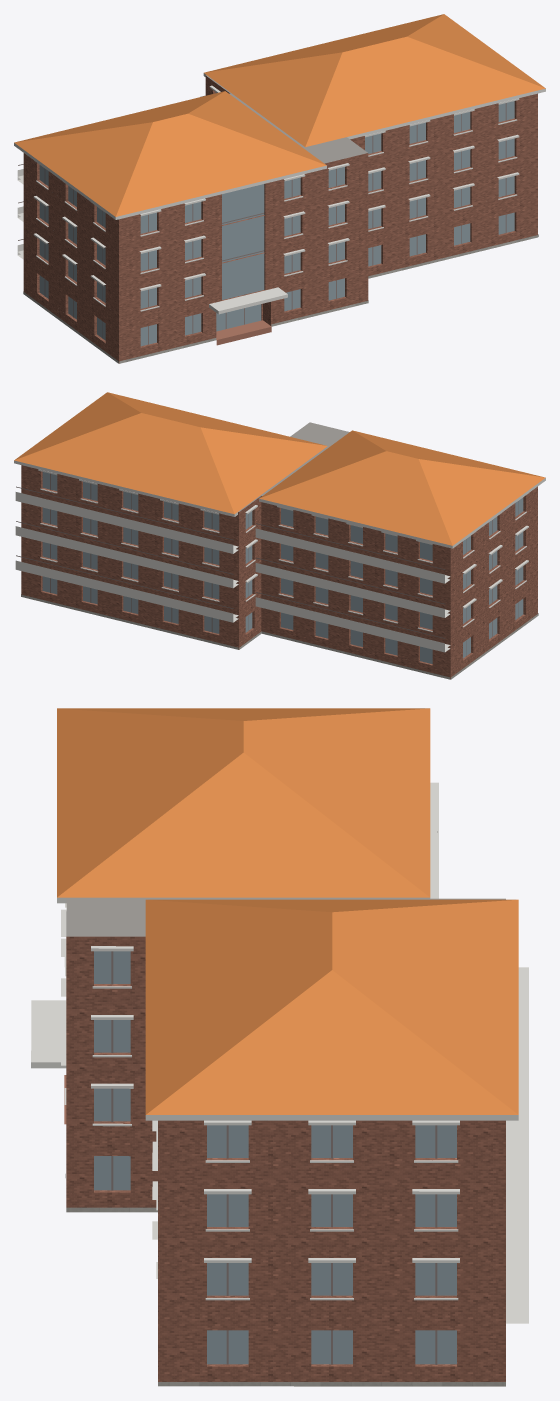
3 views of the same model, one above another, from view 1: azimuth 30°, elevation 25°; view 2: azimuth 150°, elevation 25°; view 3: azimuth 270°, elevation 25° (orthographic). The views are drawn at different scales.
Visible parts, largest first — view 1: osm136188129__wall, osm136188129__roofAccent, osm136188129__glass, osm136188129__trim, osm136188129__base, osm136188129__frame, osm136188129__roof, osm136188129__canopy, osm136188129__entranceThreshold_0; view 2: osm136188129__wall, osm136188129__roofAccent, osm136188129__trim, osm136188129__glass, osm136188129__frame, osm136188129__base, osm136188129__roof; view 3: osm136188129__roofAccent, osm136188129__wall, osm136188129__glass, osm136188129__trim, osm136188129__roof, osm136188129__base, osm136188129__canopy, osm136188129__frame.
Boxes of the visible parts, x1,y1,x2,y2 form: osm136188129__wall: (23, 76, 537, 363); osm136188129__roofAccent: (14, 14, 545, 216); osm136188129__glass: (39, 92, 514, 346); osm136188129__trim: (14, 73, 545, 311); osm136188129__base: (23, 234, 538, 363); osm136188129__frame: (18, 95, 506, 344); osm136188129__roof: (206, 75, 367, 163); osm136188129__canopy: (209, 287, 287, 314); osm136188129__entranceThreshold_0: (216, 320, 271, 345); osm136188129__wall: (21, 465, 537, 679); osm136188129__roofAccent: (14, 392, 545, 545); osm136188129__trim: (14, 460, 545, 652); osm136188129__glass: (42, 472, 523, 663); osm136188129__frame: (16, 473, 518, 656); osm136188129__base: (21, 594, 538, 679); osm136188129__roof: (238, 422, 349, 511); osm136188129__roofAccent: (57, 708, 518, 1114); osm136188129__wall: (66, 936, 505, 1381); osm136188129__glass: (94, 951, 456, 1364); osm136188129__trim: (57, 782, 528, 1323); osm136188129__roof: (66, 897, 505, 1386); osm136188129__base: (65, 1174, 505, 1386); osm136188129__canopy: (31, 1000, 66, 1068); osm136188129__frame: (111, 831, 437, 1364).
Bounding box in the file's own units: 38.04 × 15.29 × 19.68.
Materials: 10 (2 with a texture image).
